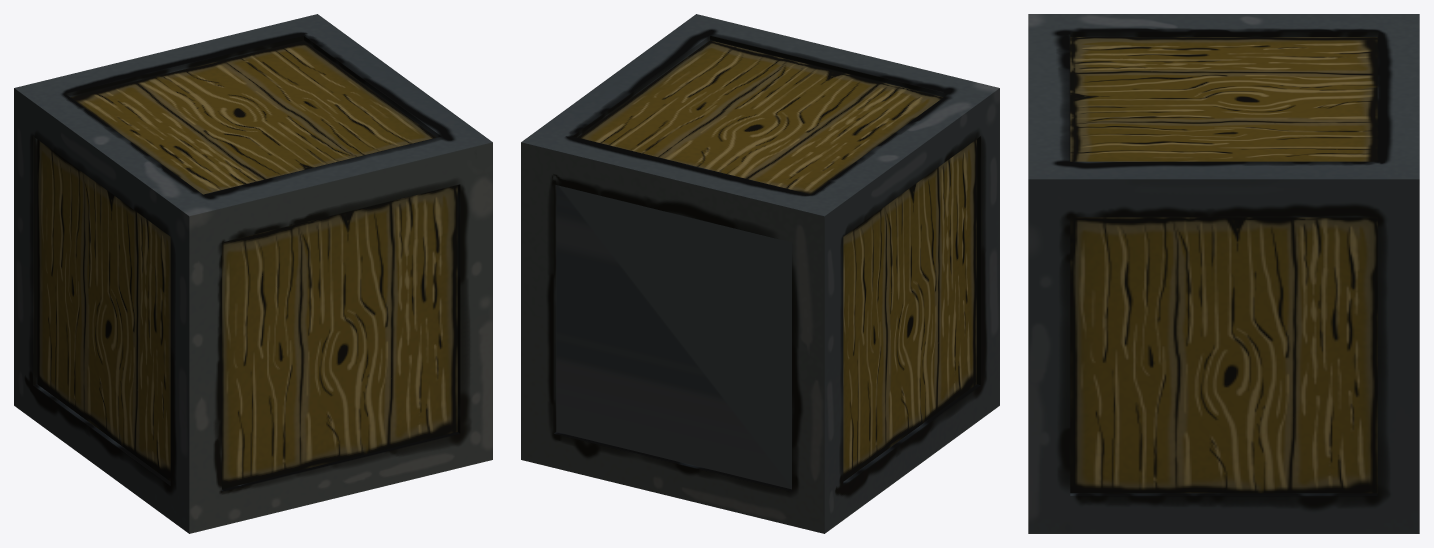
The model's file is cratefbx.fbx.
3 renders of one model, left to right at view 1: azimuth 30°, elevation 25°; view 2: azimuth 150°, elevation 25°; view 3: azimuth 270°, elevation 25°, orthographic. The views are drawn at different scales.
Visible parts, largest first — view 1: Cube.002; view 2: Cube.002; view 3: Cube.002.
Part boxes in pixels (box(x1,y1,x2,y2)): Cube.002: box(14, 14, 492, 533); Cube.002: box(521, 14, 999, 533); Cube.002: box(1028, 14, 1419, 533).
Bounding box in the file's own units: 141 × 141 × 141.
